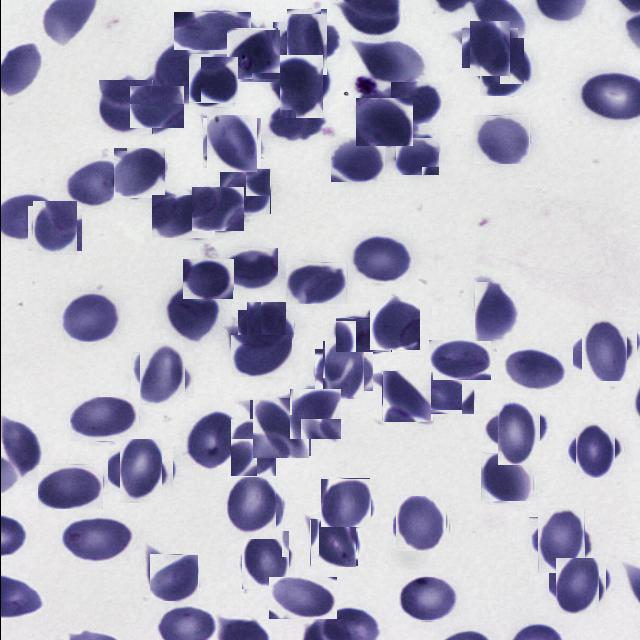red blood cell: (250, 398, 308, 458), (61, 518, 135, 565), (532, 513, 589, 569), (355, 42, 427, 86), (223, 480, 279, 536), (350, 233, 412, 283), (490, 404, 546, 459), (61, 291, 121, 342), (69, 397, 138, 441), (576, 322, 632, 376), (37, 464, 103, 509), (134, 348, 189, 402), (393, 578, 460, 622), (173, 12, 250, 50), (98, 80, 152, 134), (204, 116, 258, 170), (274, 60, 327, 114), (113, 444, 166, 498), (268, 577, 336, 619), (182, 412, 232, 469), (238, 534, 292, 586), (394, 496, 446, 550), (164, 291, 218, 343), (151, 196, 214, 240), (279, 16, 332, 68), (473, 115, 529, 164), (355, 98, 412, 146), (504, 348, 566, 392), (369, 296, 419, 350), (230, 418, 276, 476), (113, 147, 165, 198), (474, 41, 526, 92), (153, 46, 200, 102), (284, 262, 346, 304), (230, 335, 291, 377), (227, 30, 278, 80), (474, 282, 517, 341), (318, 345, 368, 395), (552, 560, 602, 610), (482, 454, 532, 504), (29, 204, 79, 254), (320, 478, 370, 528), (186, 56, 236, 106), (382, 372, 432, 422), (290, 389, 340, 439), (428, 340, 490, 380), (330, 138, 384, 182), (219, 168, 270, 214), (571, 426, 619, 474), (241, 306, 289, 354), (465, 24, 513, 72), (132, 83, 180, 131), (149, 554, 198, 601), (191, 187, 243, 231), (222, 248, 276, 290), (390, 82, 442, 125), (268, 102, 325, 140), (309, 520, 356, 566), (70, 162, 118, 206), (420, 375, 474, 414), (182, 259, 232, 299), (334, 318, 390, 352), (395, 137, 439, 175)
